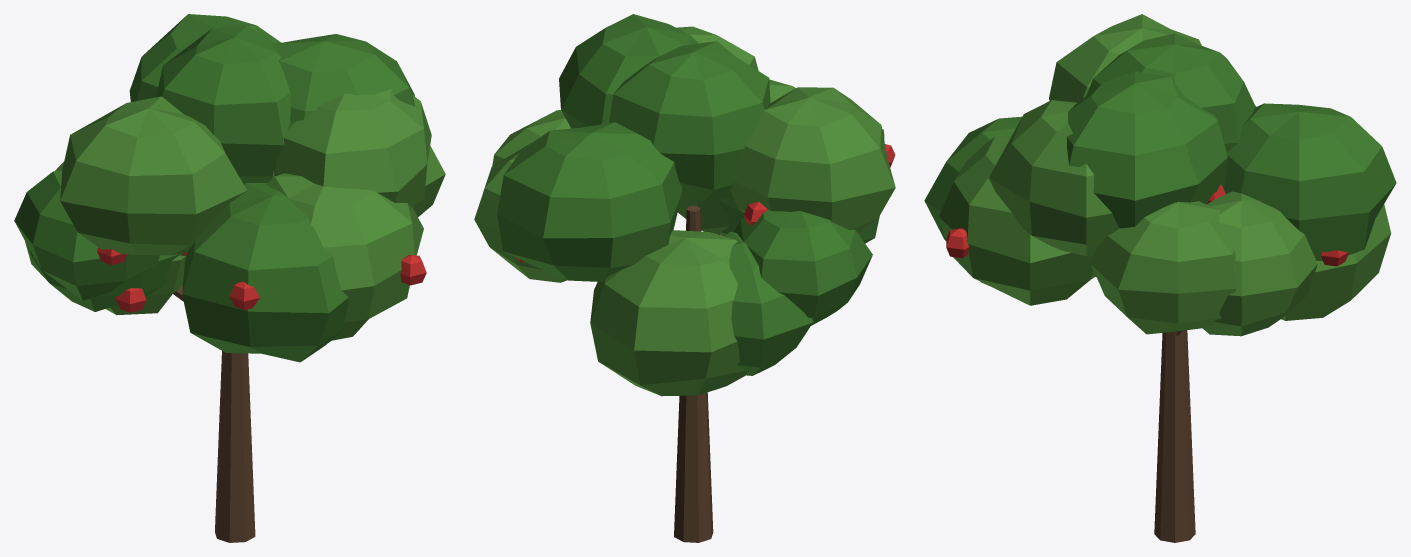
File: tree_apple_medium.glb
The picture shows the model from 3 angles, left to right: view 1: azimuth 30°, elevation 25°; view 2: azimuth 150°, elevation 25°; view 3: azimuth 270°, elevation 25°; orthographic projection. The views are drawn at different scales.
Visible parts, largest first — view 1: tree_apple_medium; view 2: tree_apple_medium; view 3: tree_apple_medium.
Part boxes in pixels (left/top/right/bottom): tree_apple_medium: left=14, top=14, right=445, bottom=542; tree_apple_medium: left=474, top=14, right=895, bottom=542; tree_apple_medium: left=924, top=14, right=1396, bottom=542.
Size of the model in its own units: 7.63 by 9.49 by 8.3.
